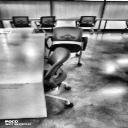chair_fail: (44, 47, 70, 94), (52, 27, 84, 42), (35, 16, 58, 28), (76, 16, 98, 28), (10, 16, 32, 28)
